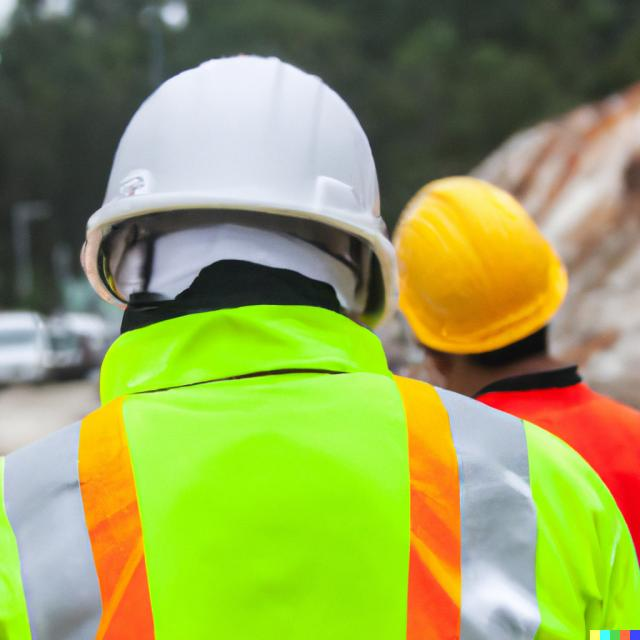Reflective-Jacket: (4, 305, 416, 640), (425, 378, 640, 639)
Safety-Helmet: (77, 57, 403, 249), (391, 174, 572, 358)
